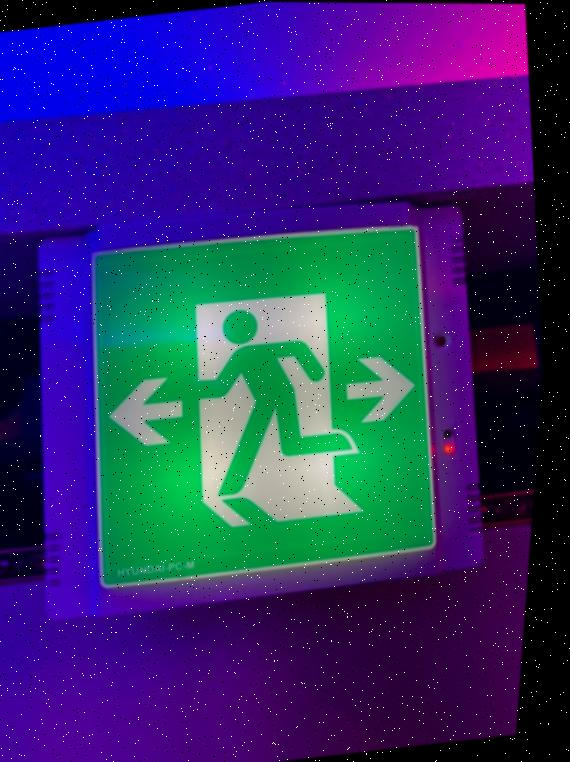emergency_exit: (91, 221, 441, 591)
